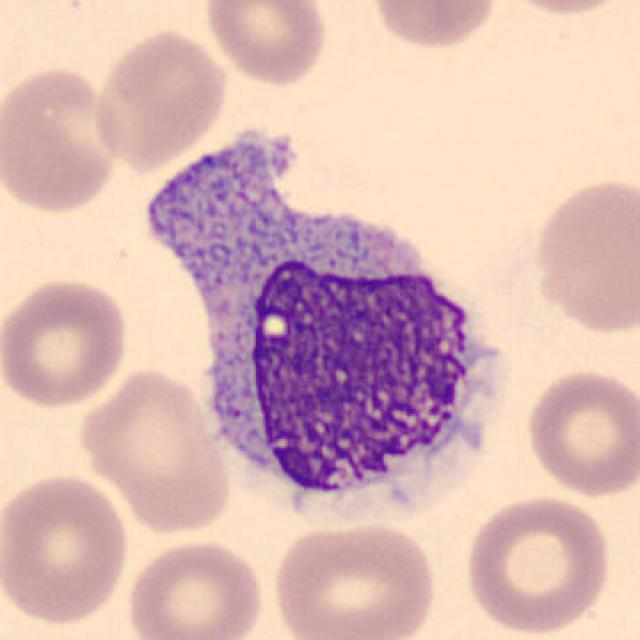Monocyte: (165, 150, 519, 529)
RBC: (73, 363, 236, 538), (461, 492, 615, 636), (0, 468, 133, 629), (268, 518, 441, 640), (89, 25, 231, 169), (0, 62, 123, 217), (528, 171, 640, 337), (0, 273, 133, 410), (521, 365, 638, 501), (122, 536, 268, 640), (201, 0, 332, 88), (363, 0, 503, 53), (484, 0, 638, 18)
